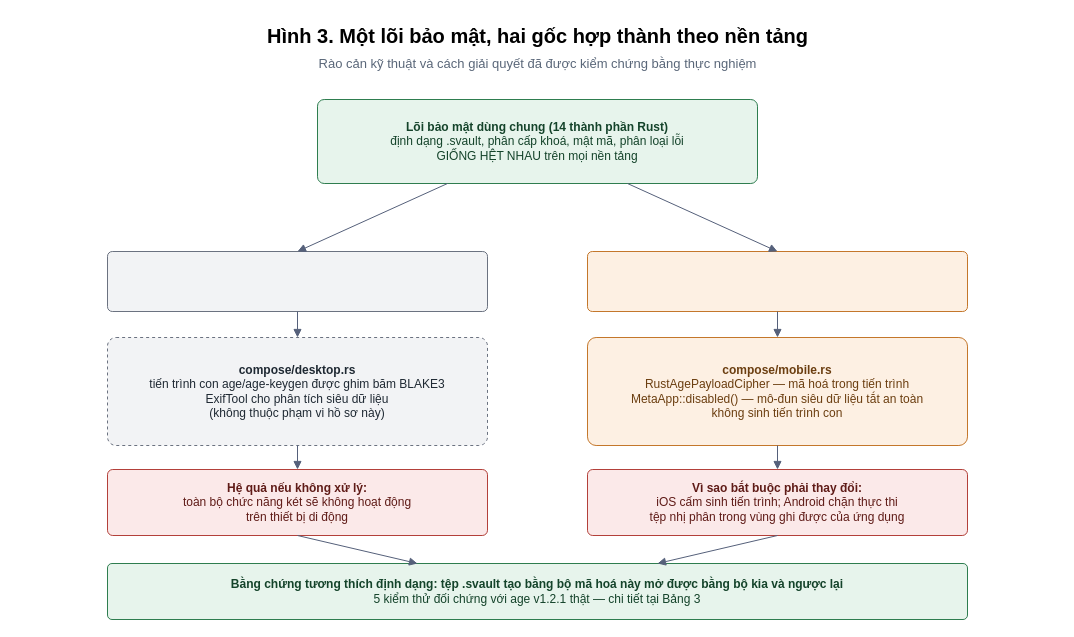
The diagram is 1074 pixels wide and 637 high, and some of its shapes have lost their labels. Each missing label, with the box of its shape:
Biên dịch với cfg = desktop: (106, 250, 488, 312)
Biên dịch với cfg = mobile (Android): (586, 250, 968, 312)
